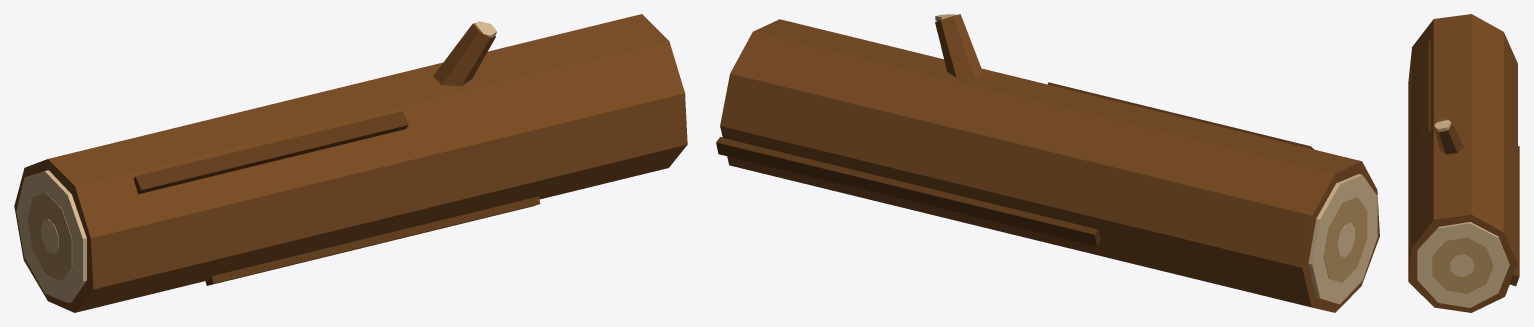
Rendered from log.glb.
3 views of the same model, side by side, from view 1: azimuth 30°, elevation 25°; view 2: azimuth 150°, elevation 25°; view 3: azimuth 270°, elevation 25° (orthographic). The views are drawn at different scales.
Visible parts, largest first — view 1: log-m; view 2: log-m; view 3: log-m.
Boxes of the visible parts, x1,y1,x2,y2 form: log-m: (14,14,687,312); log-m: (716,14,1379,312); log-m: (1408,14,1519,312).
Size of the model in its own units: 3.05 by 0.9207 by 0.7014.
